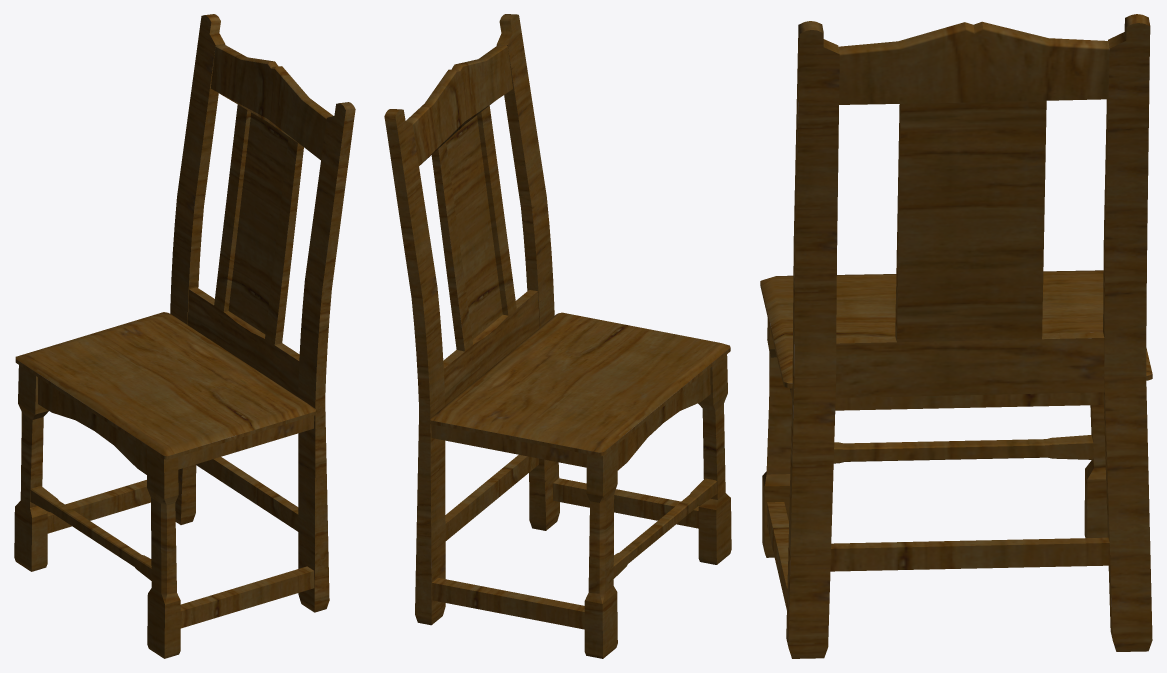
Rendered from SillaCocina.obj.
The picture shows the model from 3 angles, left to right: view 1: azimuth 30°, elevation 25°; view 2: azimuth 150°, elevation 25°; view 3: azimuth 270°, elevation 25°; orthographic projection. The views are drawn at different scales.
Visible parts, largest first — view 1: Silla:Mesh; view 2: Silla:Mesh; view 3: Silla:Mesh.
Boxes of the visible parts, left/top/right/bottom form: Silla:Mesh: left=14, top=14, right=355, bottom=658; Silla:Mesh: left=384, top=14, right=731, bottom=658; Silla:Mesh: left=760, top=14, right=1152, bottom=658.
Bounding box in the file's own units: 1.79 × 3.9 × 2.13.
1 material, 1 textured.
